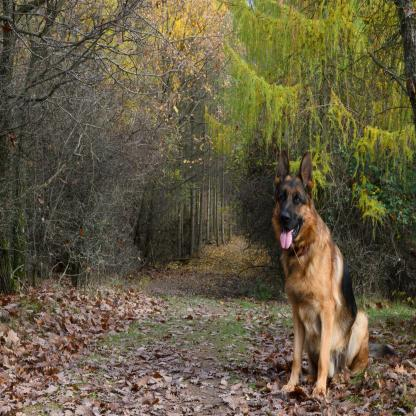dog: (272, 147, 372, 400)
